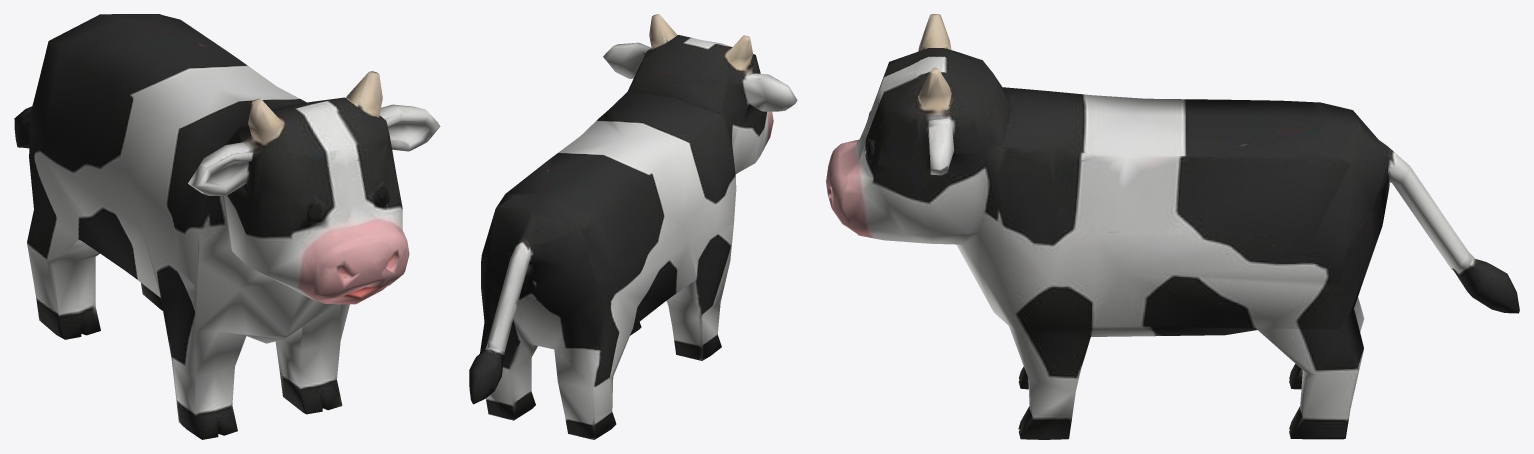
Rendered from cow.glb.
The picture shows the model from 3 angles, left to right: view 1: azimuth 30°, elevation 25°; view 2: azimuth 150°, elevation 25°; view 3: azimuth 270°, elevation 25°; orthographic projection. The views are drawn at different scales.
Parts seen in each view (by area): view 1: node_0; view 2: node_0; view 3: node_0.
Boxes of the visible parts, x1,y1,x2,y2 form: node_0: (14, 14, 440, 439); node_0: (469, 14, 797, 439); node_0: (826, 14, 1519, 439).
Size of the model in its own units: 0.4751 by 0.6709 by 1.16.
1 material, 1 textured.
